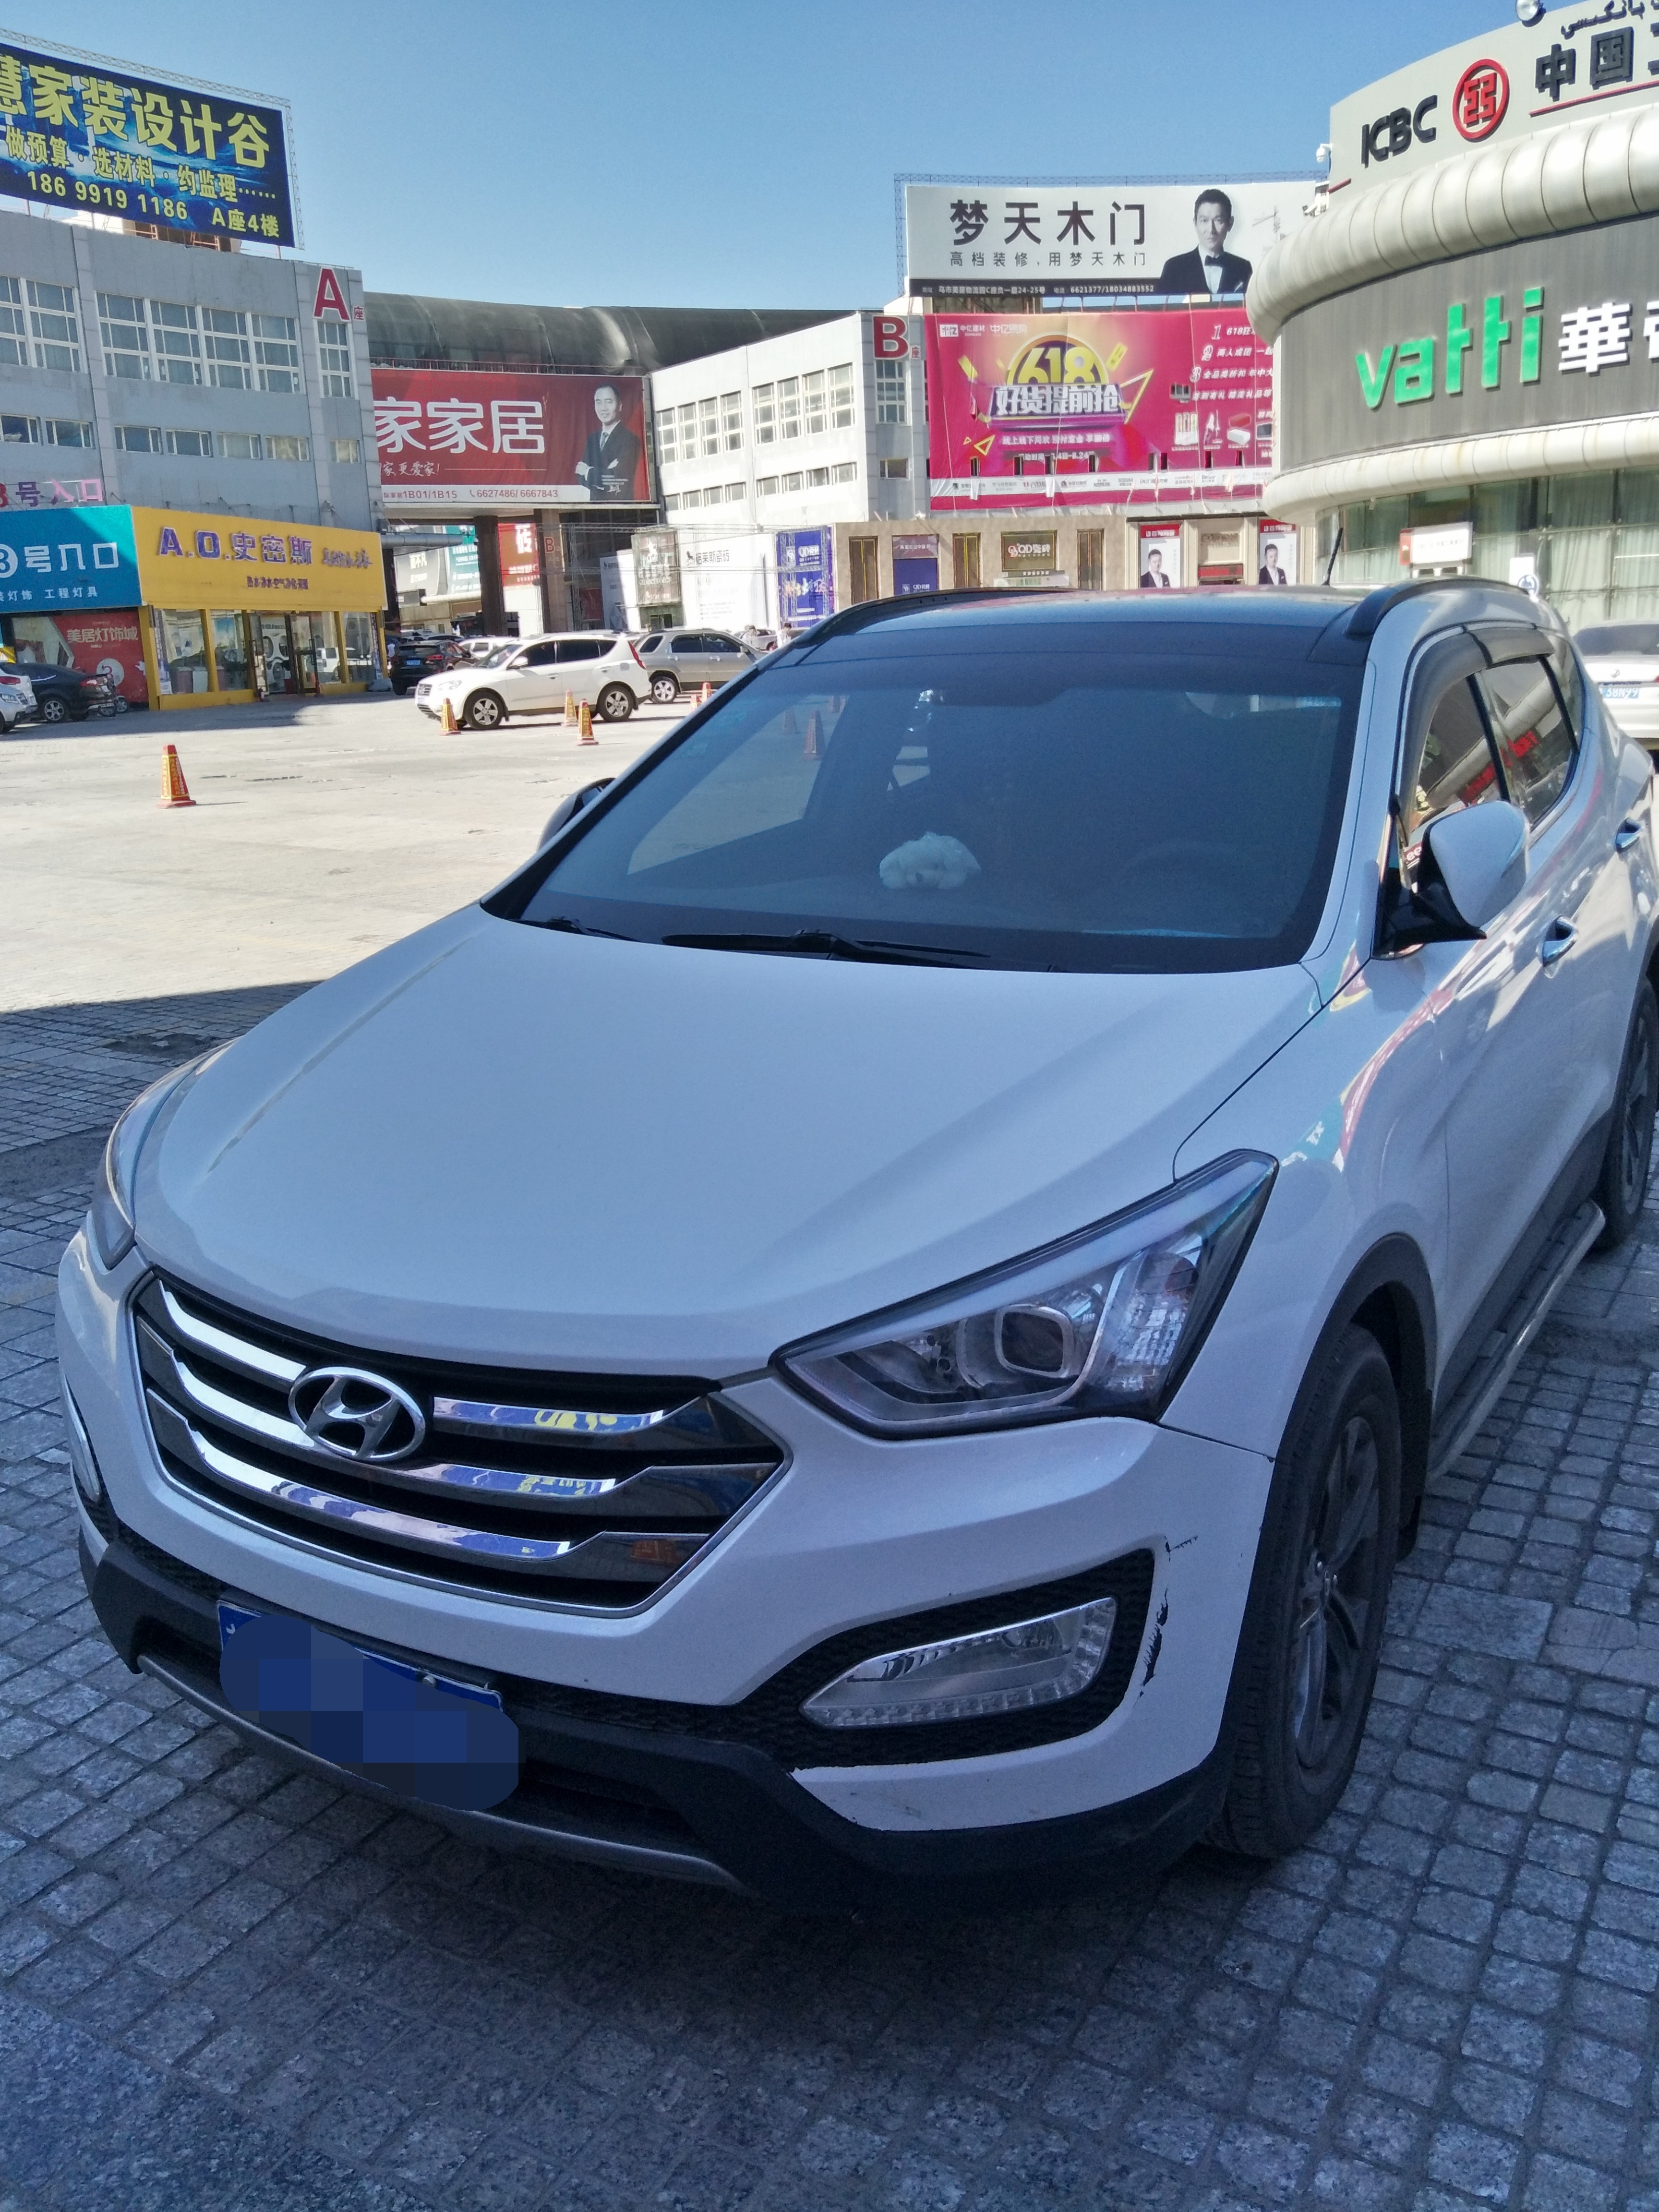SUV: (113, 559, 1621, 1905)
